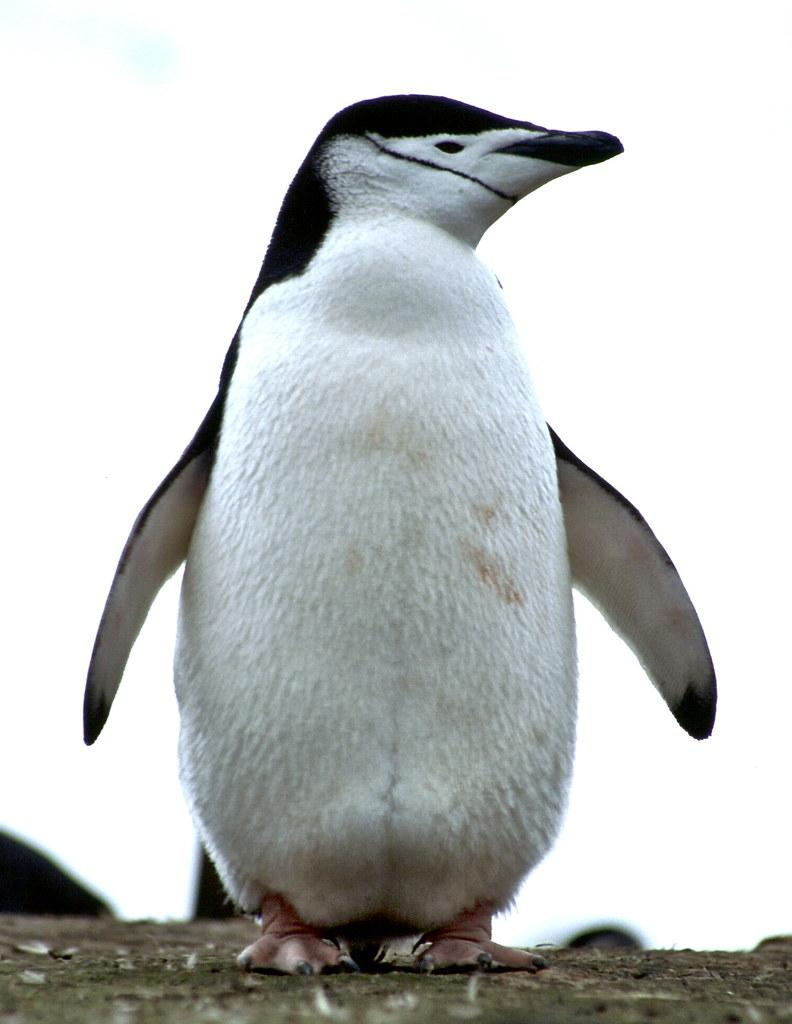chinstrap: (57, 62, 730, 983)
